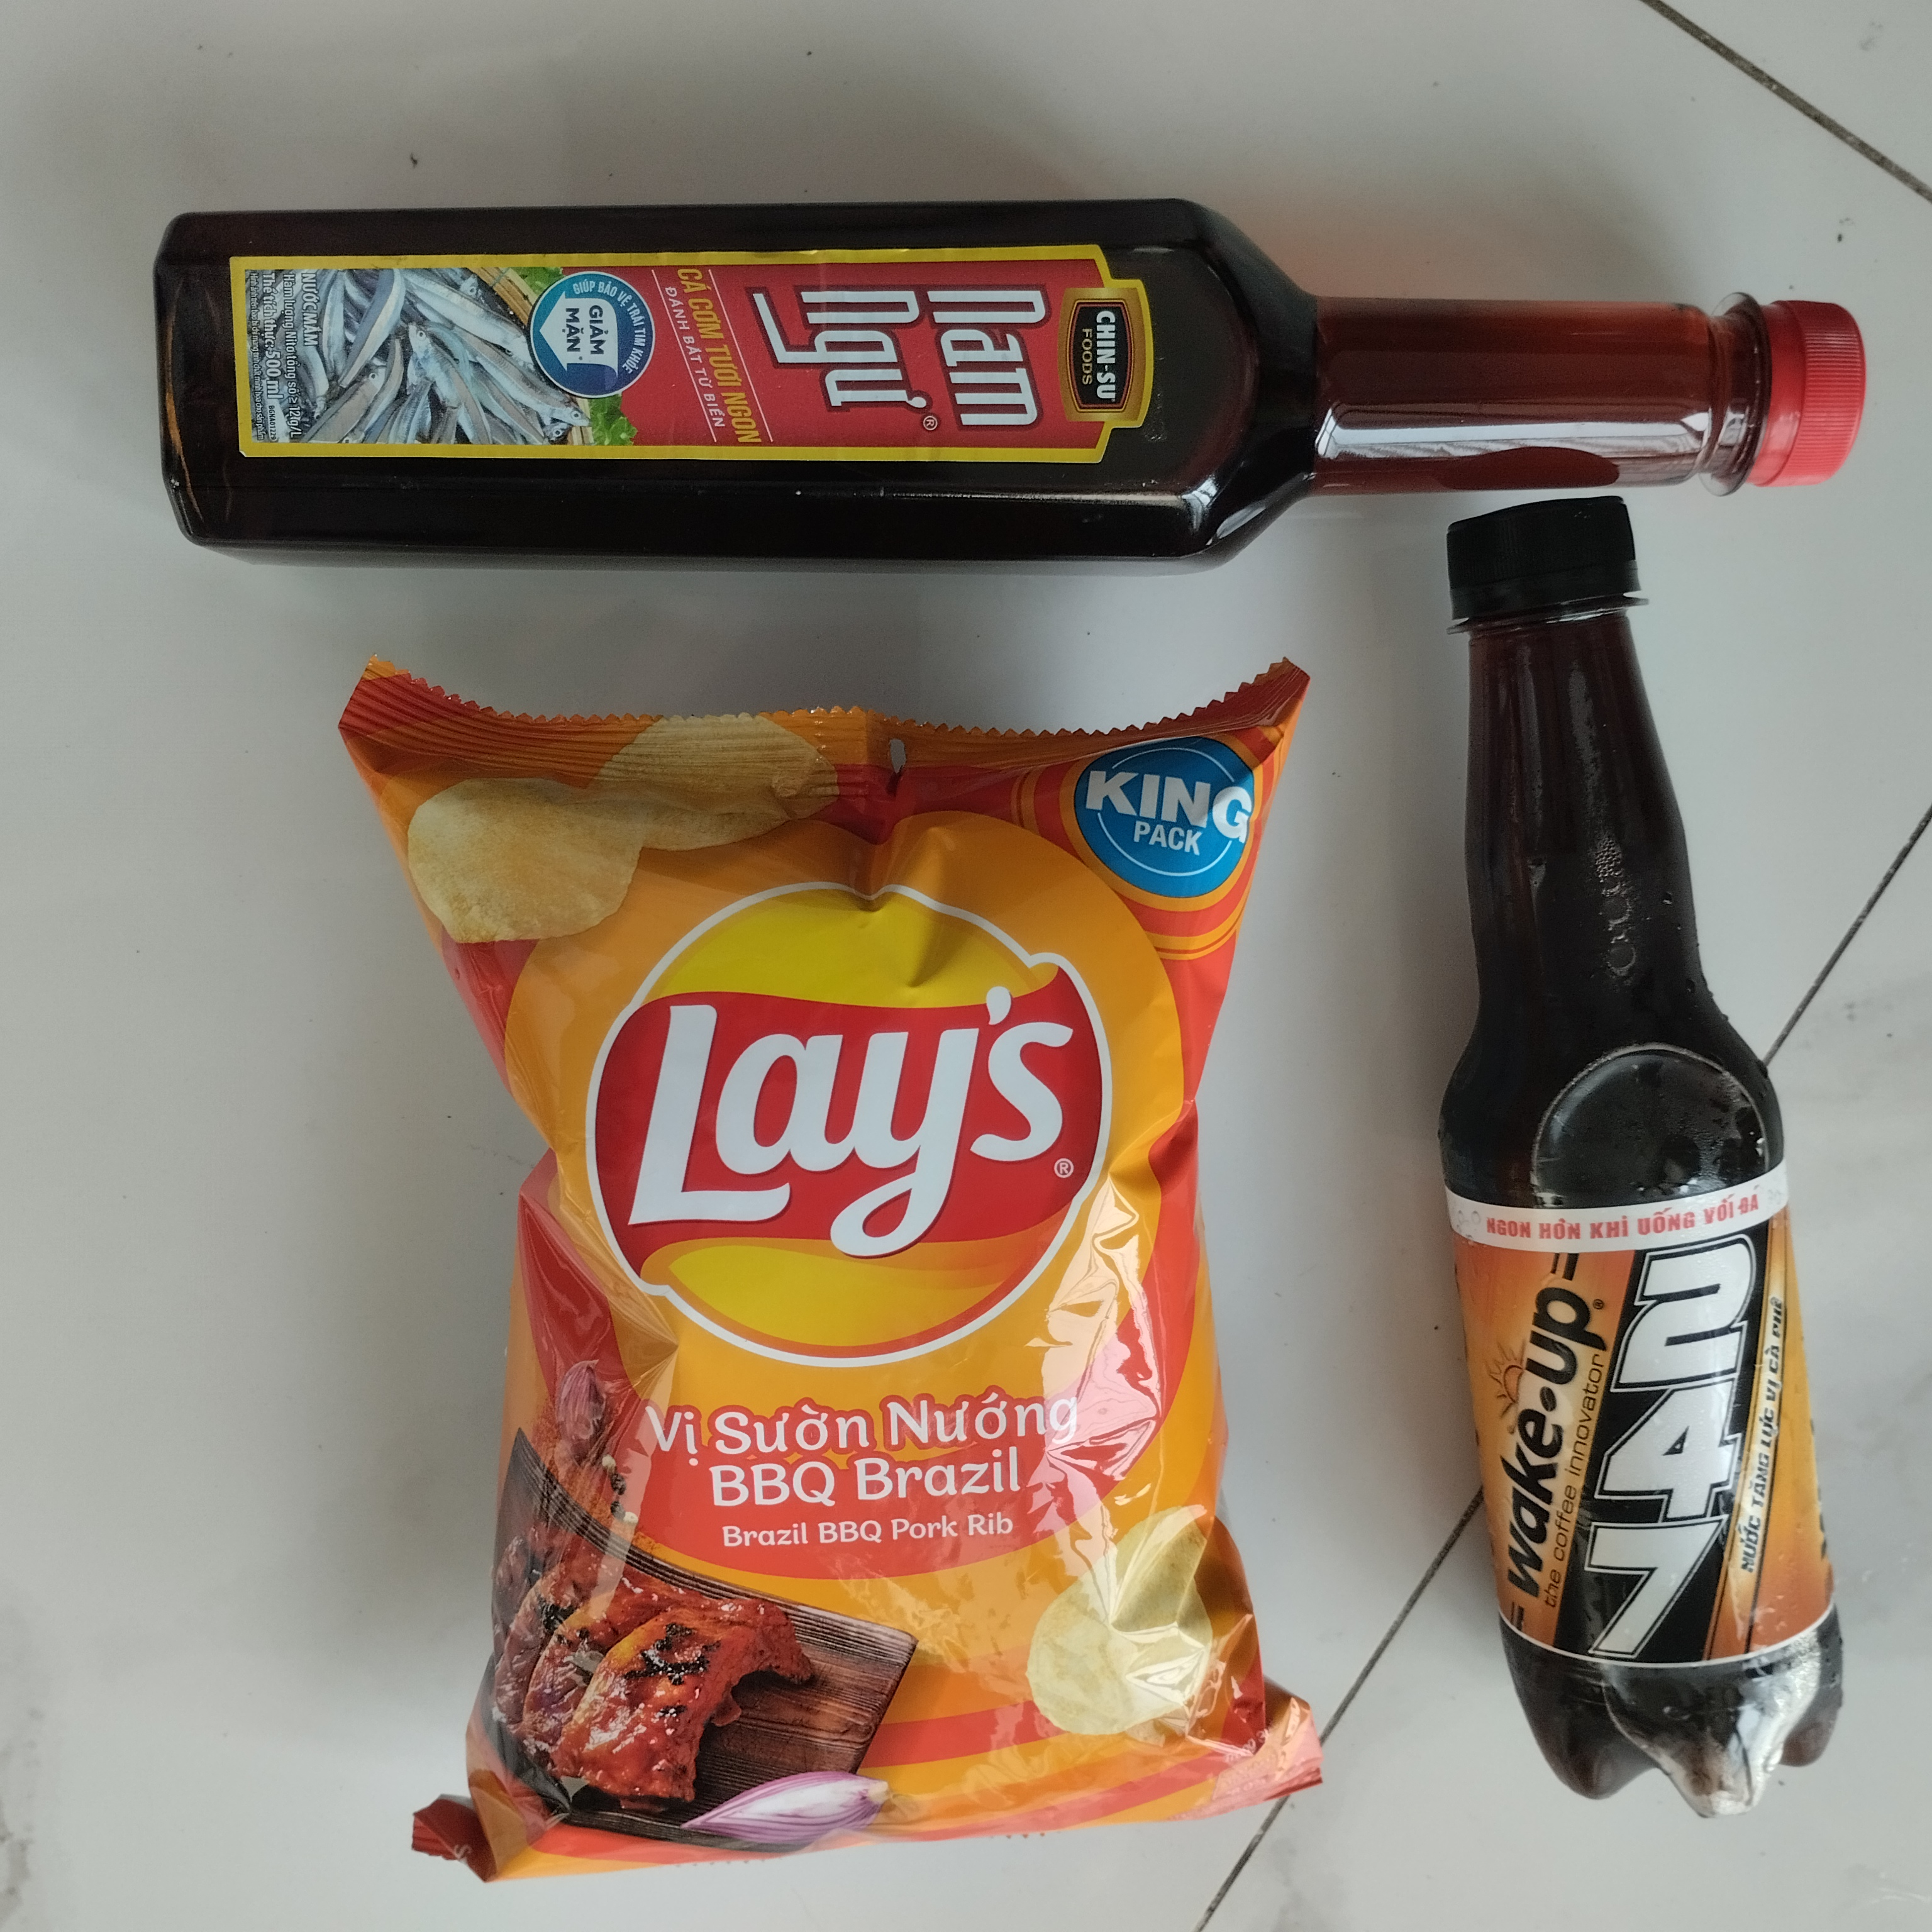247: (1430, 499, 1858, 1826)
Lays: (324, 612, 1355, 1918)
Namngu: (149, 188, 1875, 556)
